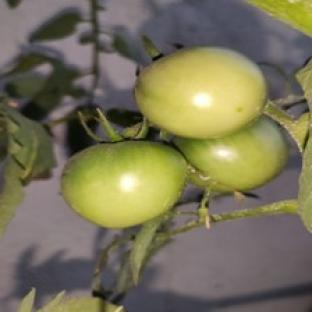Tomato: (134, 48, 267, 137), (62, 141, 188, 228), (175, 116, 288, 190)
